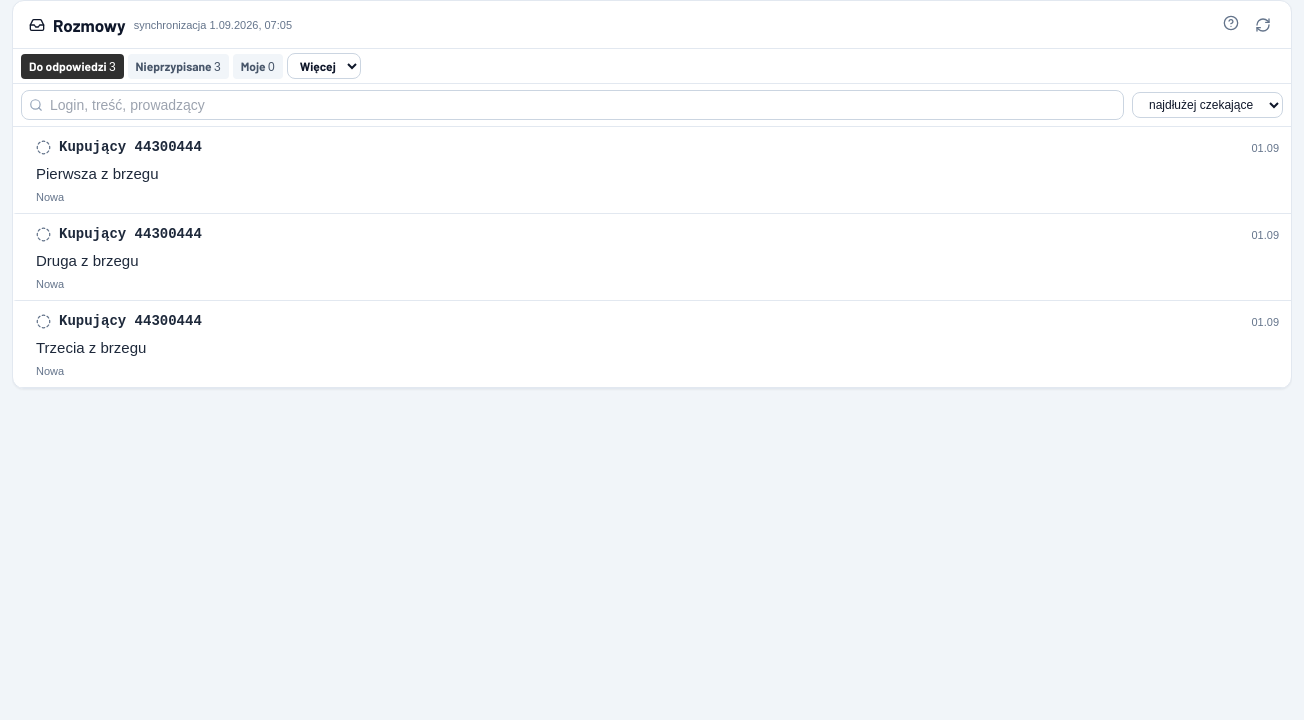
Test: Kolejka: klawiatura › pasek pokazuje klawisze, bo skrót, o którym nikt nie wie, nie skraca pracy
Click the button named "Znaki i skróty".
click(1231, 23)  # box x1=1219 y1=11 x2=1243 y2=35
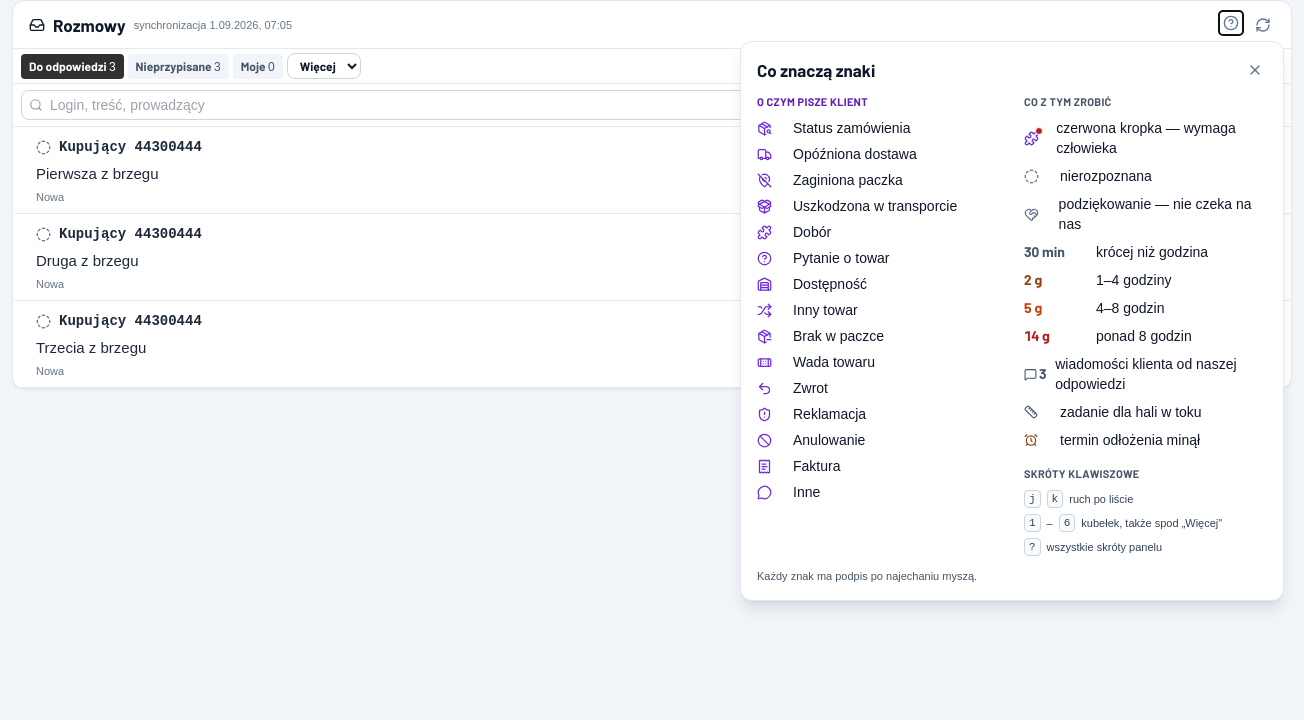
Expected: the element named "Znaki i skróty" does not show "niczyje", x1=740 y1=41 x2=1284 y2=601
Result: the element named "Znaki i skróty" shows "ruch po liście" at x1=1069 y1=493 x2=1133 y2=505
